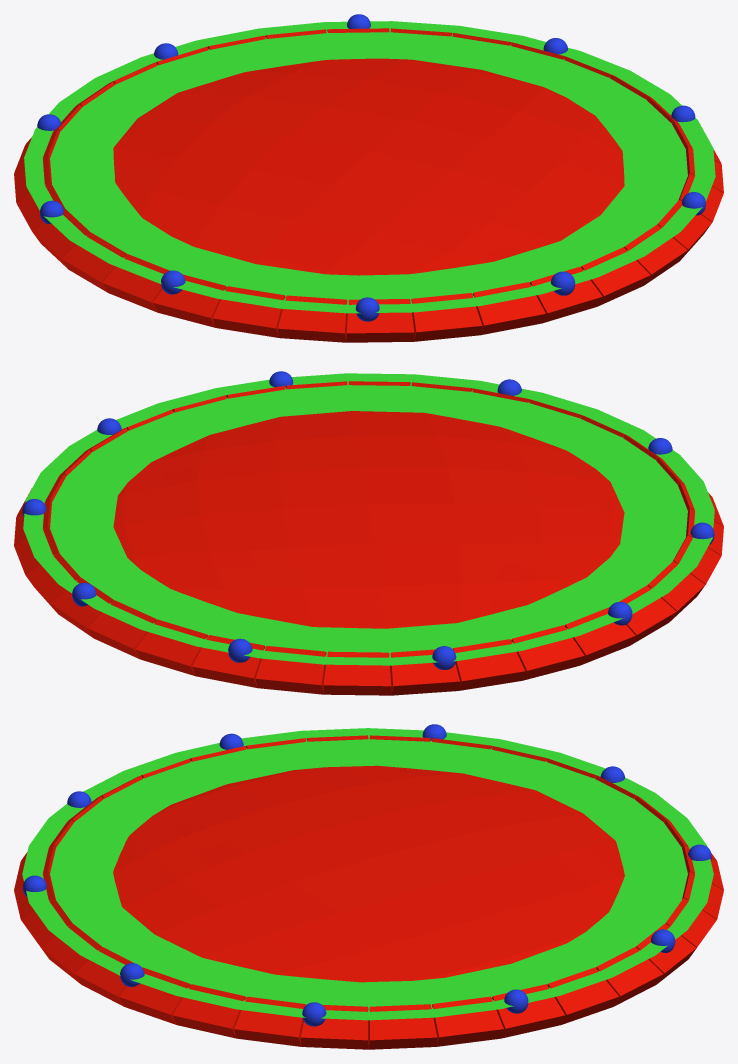
The model's file is Shield2.fbx.
The picture shows the model from 3 angles, top to bottom: view 1: azimuth 30°, elevation 25°; view 2: azimuth 150°, elevation 25°; view 3: azimuth 270°, elevation 25°; orthographic projection.
Parts seen in each view (by area): view 1: Rim, Front Face, Shield Nubs; view 2: Rim, Front Face, Shield Nubs; view 3: Rim, Front Face, Shield Nubs.
Part boxes in pixels (x1,y1,x2,y2): Rim: (14,28,723,342); Front Face: (24,21,715,313); Shield Nubs: (37,14,705,321); Rim: (14,381,723,695); Front Face: (23,373,714,665); Shield Nubs: (22,371,714,669); Rim: (14,735,723,1049); Front Face: (22,728,713,1020); Shield Nubs: (23,724,711,1026).
Bounding box in the file's own units: 205 × 14.25 × 205.
